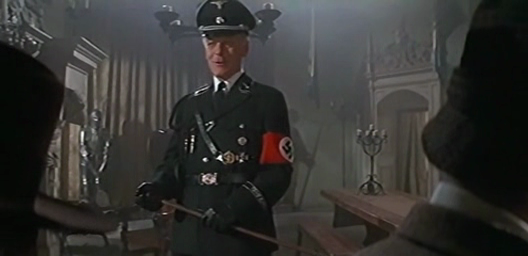face: (203, 34, 240, 78)
ms: (1, 1, 528, 256)
person: (137, 1, 296, 256)
